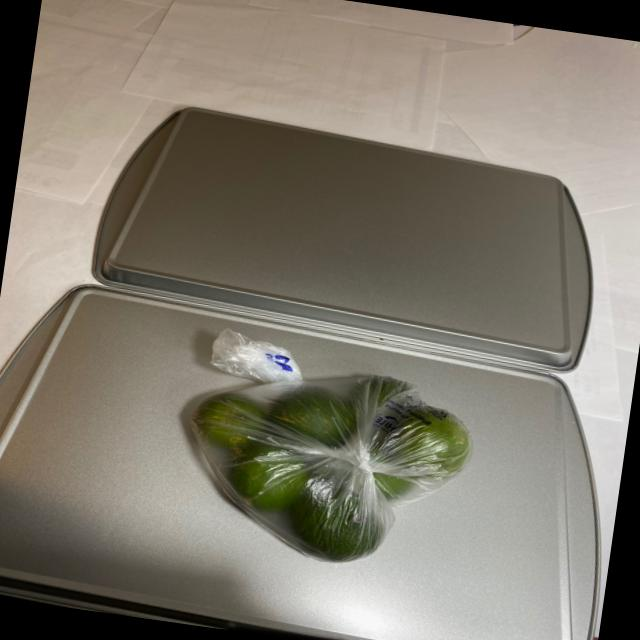lemon: (160, 337, 483, 582)
